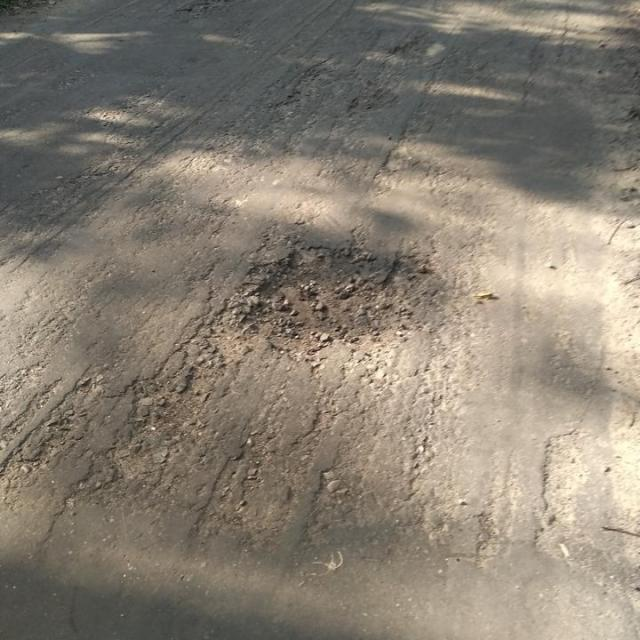Pothole: (238, 242, 436, 360)
